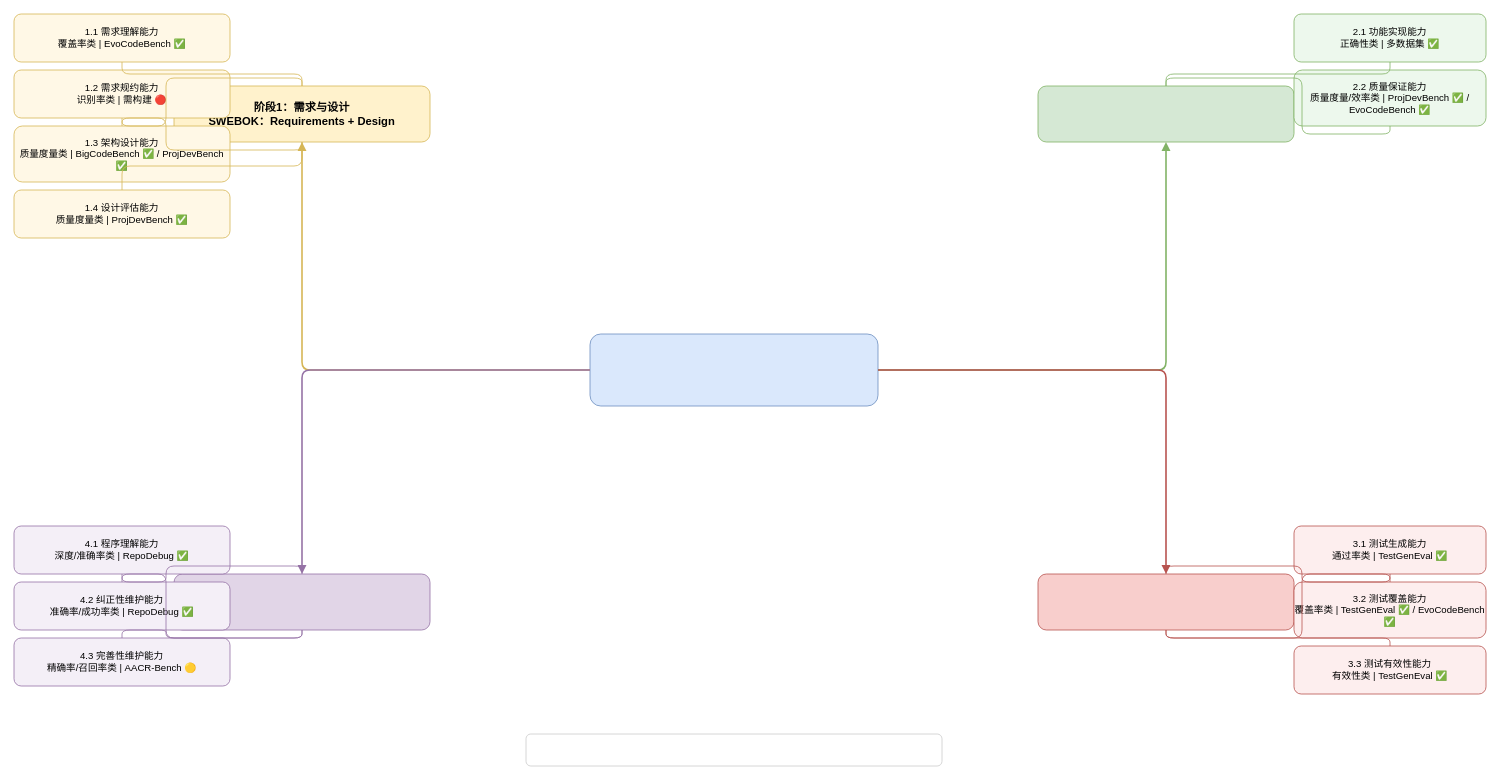
Some shapes in this 1500 by 780 pixel diagram are drawn without their labels. The centre of each missing label's shape, as x and y in pixels:
"LLM 细粒度评测框架（生命周期视角） 4阶段 · 12维度 · 37指标" goes at point (733, 369).
"数据集状态：✅ 可用｜🟡 部分可用｜🔴 需构建" goes at point (733, 749).
"阶段2：构造 SWEBOK：Construction + Quality" goes at point (1165, 113).
"阶段3：测试 SWEBOK：Testing" goes at point (1165, 601).
"阶段4：维护 SWEBOK：Maintenance" goes at point (301, 601).
